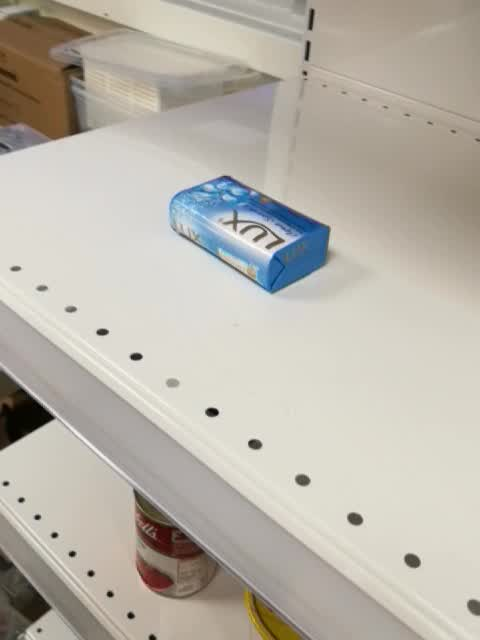soap: (169, 174, 331, 295)
